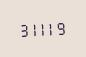nine: (58, 19, 67, 35)
one: (28, 20, 37, 37), (48, 19, 57, 36), (38, 20, 47, 36)
three: (18, 21, 27, 37)
